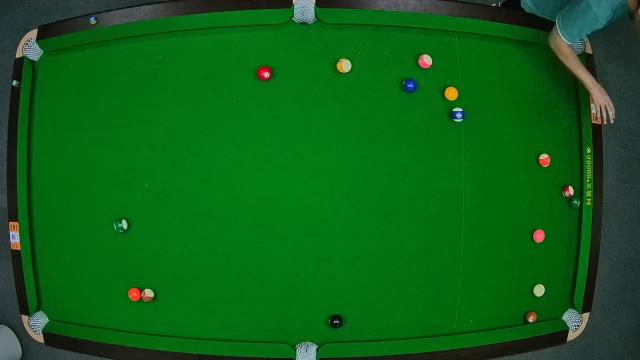bag1: (20, 40, 40, 61)
bag2: (292, 1, 316, 25)
bag3: (566, 35, 588, 55)
bag4: (28, 311, 48, 333)
bag5: (293, 340, 319, 360)
bag6: (562, 308, 582, 332)
ball0: (532, 283, 546, 297)
ball1: (444, 87, 458, 101)
ball10: (450, 105, 466, 122)
ball11: (562, 184, 574, 198)
ball12: (419, 54, 433, 70)
ball13: (538, 153, 552, 167)
ball14: (114, 218, 130, 234)
ball15: (138, 288, 154, 302)
ball2: (402, 78, 416, 92)
ball3: (257, 65, 273, 81)
ball4: (532, 229, 546, 243)
ball5: (127, 286, 141, 302)
ball6: (569, 195, 583, 209)
ball7: (524, 311, 538, 325)
ball8: (328, 314, 344, 329)
ball9: (336, 58, 352, 74)
